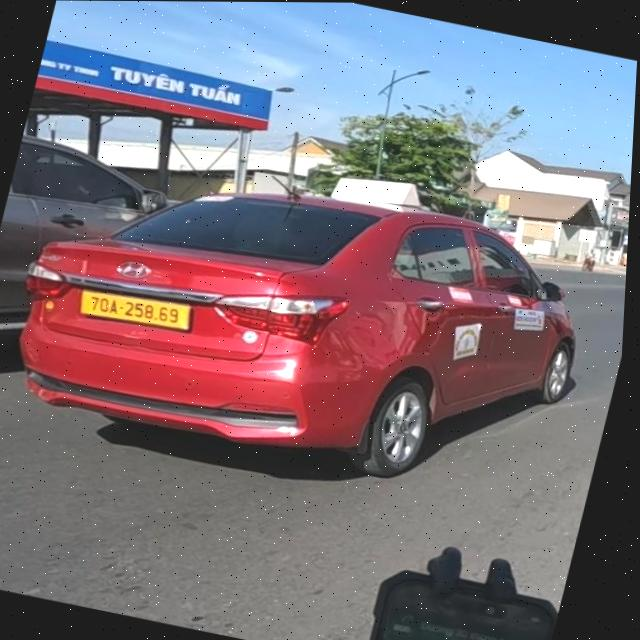car: (0, 133, 615, 527)
plate: (72, 282, 200, 342)
